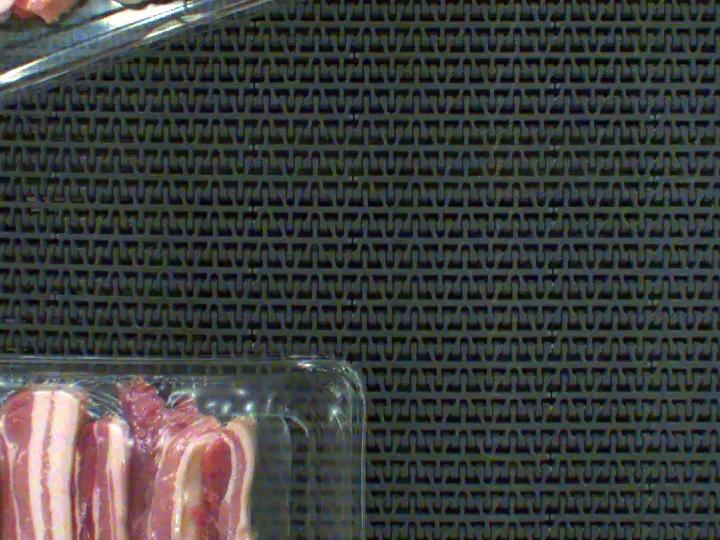unsealed: (0, 403, 303, 540)
